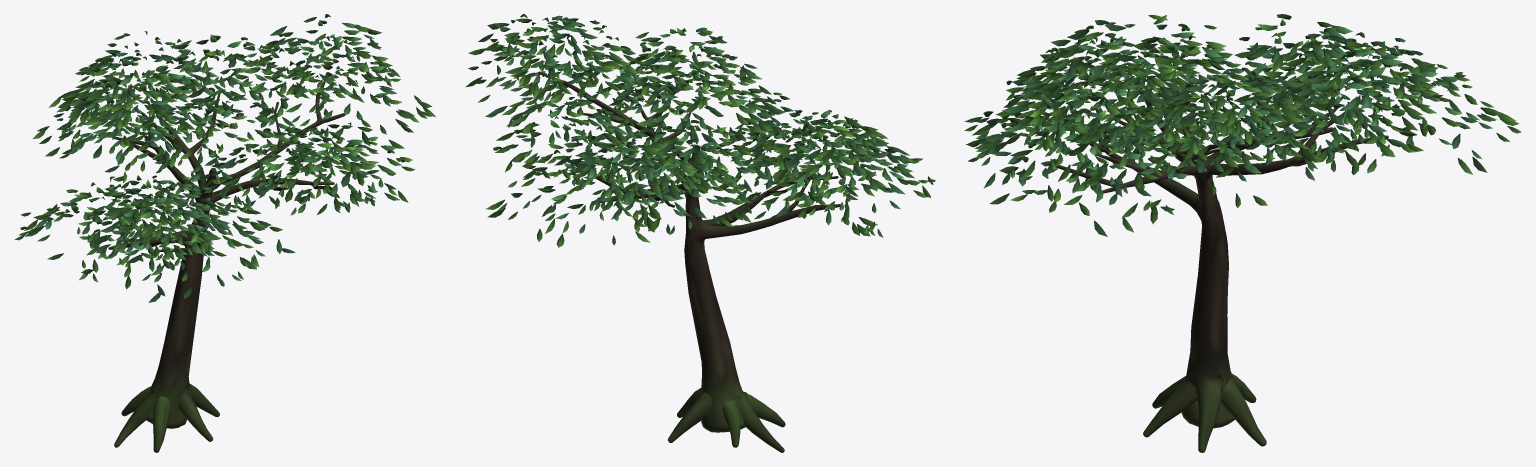
The model's file is tree_green.glb.
3 renders of one model, left to right at view 1: azimuth 30°, elevation 25°; view 2: azimuth 150°, elevation 25°; view 3: azimuth 270°, elevation 25°, orthographic. The views are drawn at different scales.
Visible parts, largest first — view 1: tree_green; view 2: tree_green; view 3: tree_green.
Part boxes in pixels (x1,y1,x2,y2): tree_green: (14,14,435,452); tree_green: (465,14,935,452); tree_green: (964,14,1521,452).
Bounding box in the file's own units: 9.31 × 7.97 × 8.92.
